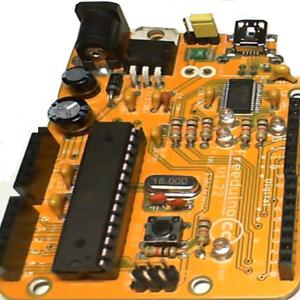duino: (5, 4, 297, 300)
